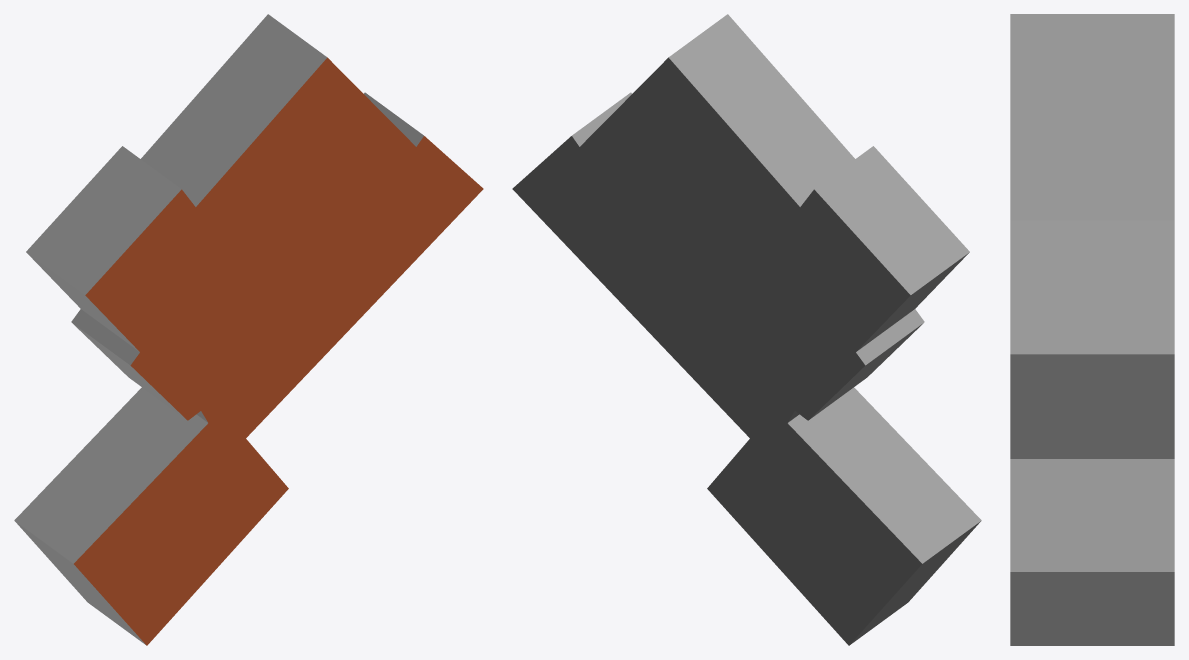
Rendered from construction_1153_assumed_A_Casa_h6m.obj.
3 renders of one model, left to right at view 1: azimuth 30°, elevation 25°; view 2: azimuth 150°, elevation 25°; view 3: azimuth 270°, elevation 25°, orthographic. The views are drawn at different scales.
Visible parts, largest first — view 1: construction_1153_assumed_A_Casa; view 2: construction_1153_assumed_A_Casa; view 3: construction_1153_assumed_A_Casa.
Boxes of the visible parts, <box> form: construction_1153_assumed_A_Casa: <box>14,14,483,645</box>; construction_1153_assumed_A_Casa: <box>512,14,981,645</box>; construction_1153_assumed_A_Casa: <box>1010,14,1174,645</box>.
Bounding box in the file's own units: 23.94 × 30.37 × 6.
